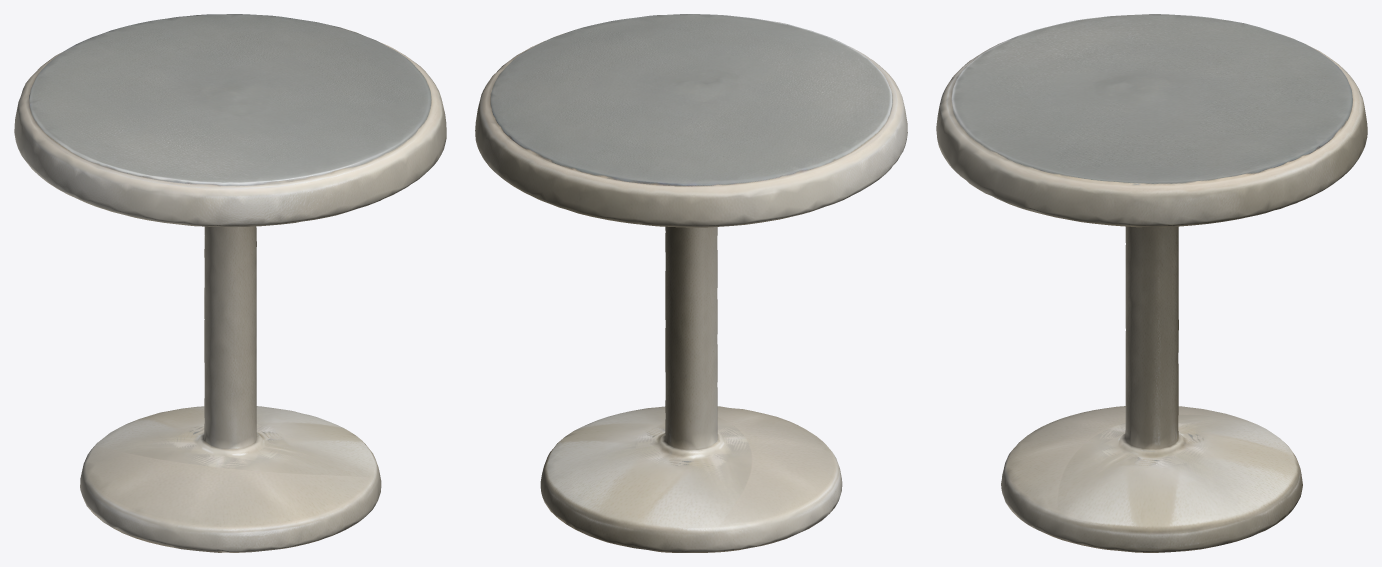
The model's file is VAR_Pool_SideTable.fbx.
3 renders of one model, left to right at view 1: azimuth 30°, elevation 25°; view 2: azimuth 150°, elevation 25°; view 3: azimuth 270°, elevation 25°, orthographic.
Visible parts, largest first — view 1: texture_mapping; view 2: texture_mapping; view 3: texture_mapping.
Boxes of the visible parts, bbox=[...] form: texture_mapping: bbox=[14, 14, 446, 552]; texture_mapping: bbox=[475, 14, 907, 552]; texture_mapping: bbox=[936, 14, 1367, 552].
Size of the model in its own units: 0.9744 by 0.9737 by 1.
1 material, 1 textured.
